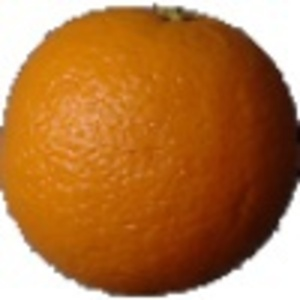laranja: (2, 2, 299, 294)
